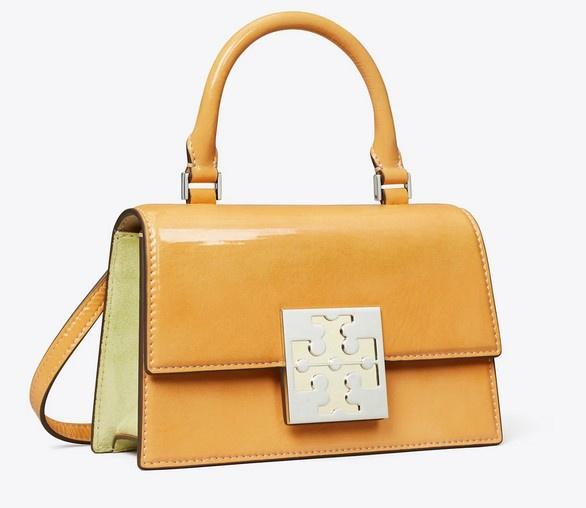TORY-BURCH: (291, 315, 380, 415)
